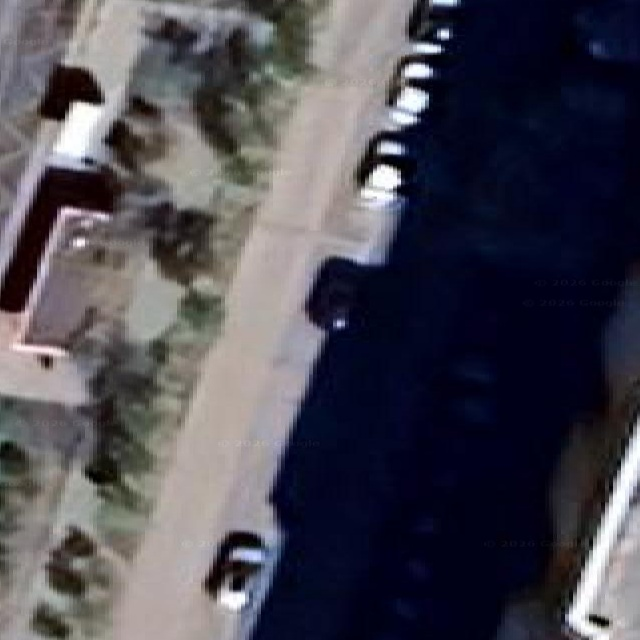car: (204, 532, 266, 611), (304, 256, 366, 331), (355, 131, 415, 207), (387, 55, 437, 125), (404, 0, 459, 43)
